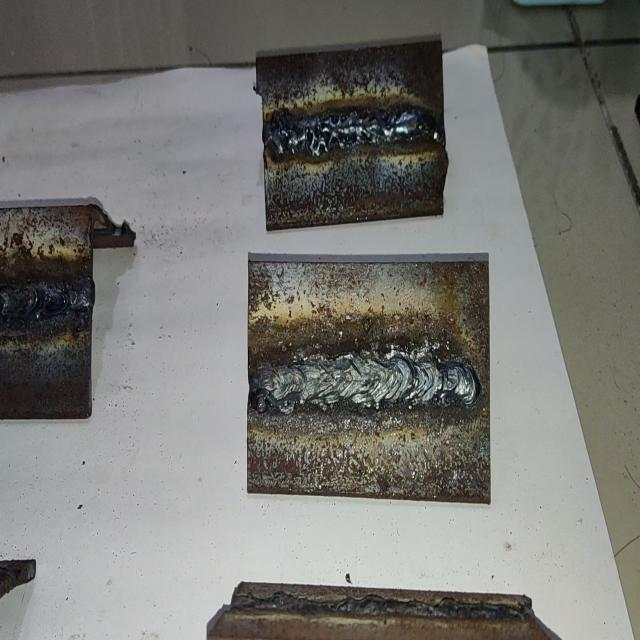Bad Weld: (265, 104, 436, 159)
Defect: (262, 103, 419, 159)
Good Weld: (252, 354, 479, 416), (0, 277, 91, 325)
